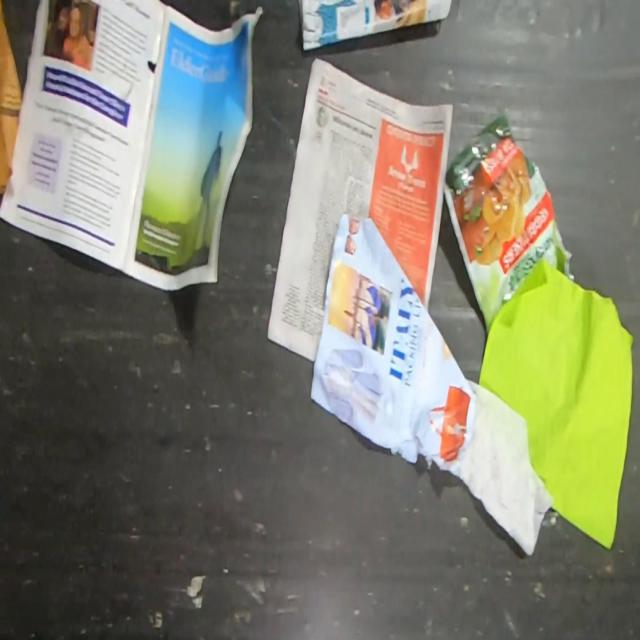soft_plastic: (443, 113, 576, 334)
